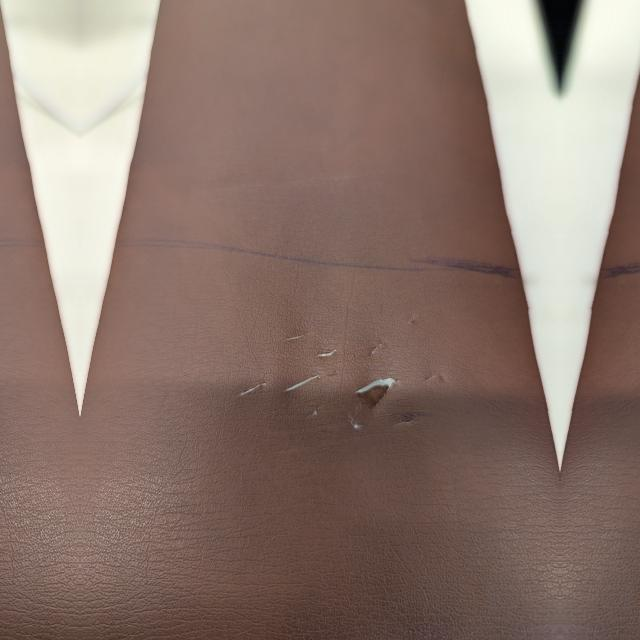belt_crack: (233, 291, 463, 469)
